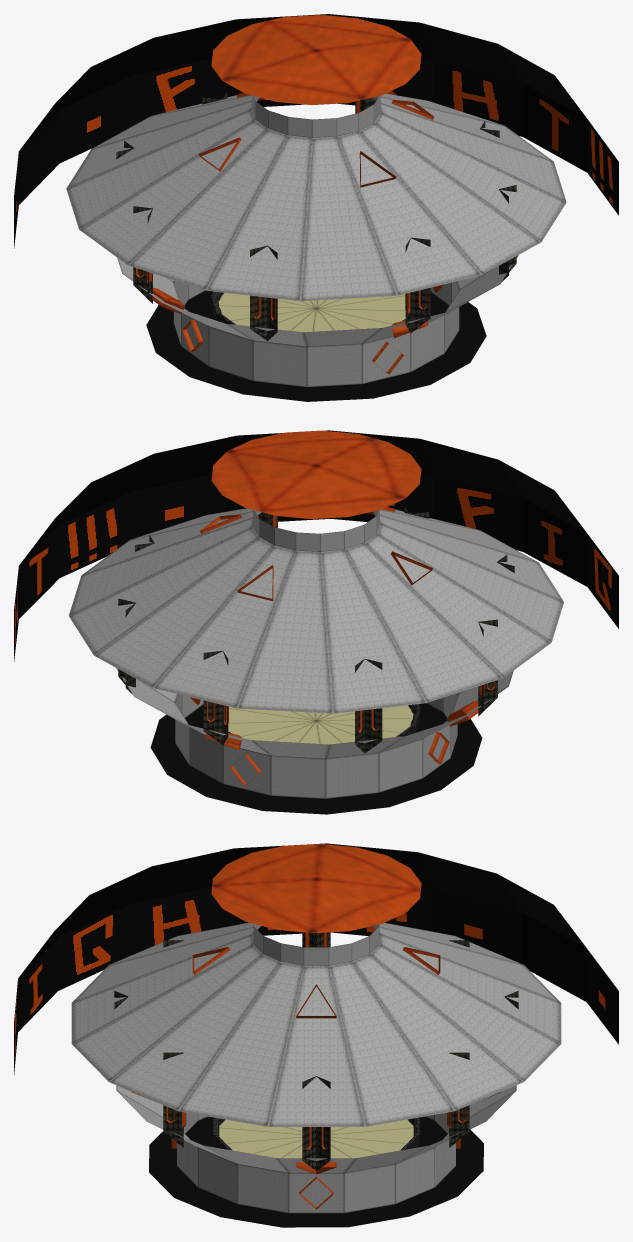
3 renders of one model, top to bottom at view 1: azimuth 30°, elevation 25°; view 2: azimuth 150°, elevation 25°; view 3: azimuth 270°, elevation 25°, orthographic.
Parts seen in each view (by area): view 1: ceiling, this_should_rotate, light, lower_part, black_void, arena, upper_part, pillars, cuboid (×2), ceiling2; view 2: ceiling, this_should_rotate, light, lower_part, black_void, arena, upper_part, pillars, cuboid (×2), ceiling2; view 3: ceiling, this_should_rotate, light, lower_part, black_void, arena, upper_part, pillars, ceiling2, cuboid (×2), wall.
Part boxes in pixels (x1,y1,x2,y2): ceiling: [66, 93, 566, 301]; this_should_rotate: [14, 14, 618, 248]; light: [211, 15, 421, 105]; lower_part: [173, 281, 459, 387]; black_void: [146, 290, 486, 401]; arena: [218, 292, 405, 332]; upper_part: [117, 255, 518, 346]; pillars: [116, 91, 516, 341]; cuboid (×2): [136, 92, 506, 374]; ceiling2: [252, 95, 380, 137]; ceiling: [69, 508, 564, 713]; this_should_rotate: [14, 430, 618, 661]; light: [211, 430, 421, 518]; lower_part: [175, 693, 457, 798]; black_void: [150, 703, 482, 814]; arena: [228, 705, 413, 744]; upper_part: [116, 668, 513, 758]; pillars: [118, 506, 514, 752]; cuboid (×2): [128, 507, 495, 785]; ceiling2: [253, 510, 379, 551]; ceiling: [71, 922, 561, 1126]; this_should_rotate: [14, 843, 618, 1074]; light: [211, 844, 421, 933]; lower_part: [177, 1112, 455, 1213]; black_void: [149, 1116, 483, 1227]; arena: [219, 1119, 413, 1158]; upper_part: [116, 1085, 516, 1172]; pillars: [114, 932, 518, 1170]; ceiling2: [253, 924, 379, 965]; cuboid (×2): [131, 932, 501, 1209]; wall: [213, 1117, 419, 1150].
Bounding box in the file's own units: 9.41 × 4.75 × 9.35.
Materials: 11 (11 with a texture image).
